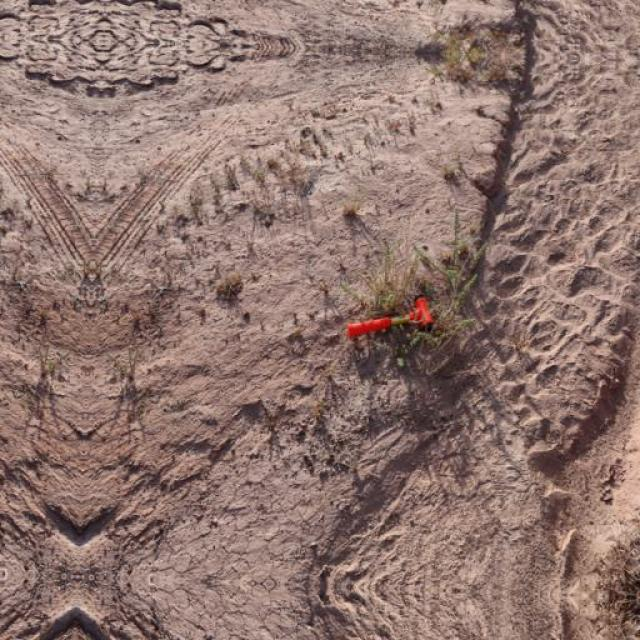mallet: (346, 294, 435, 338)
